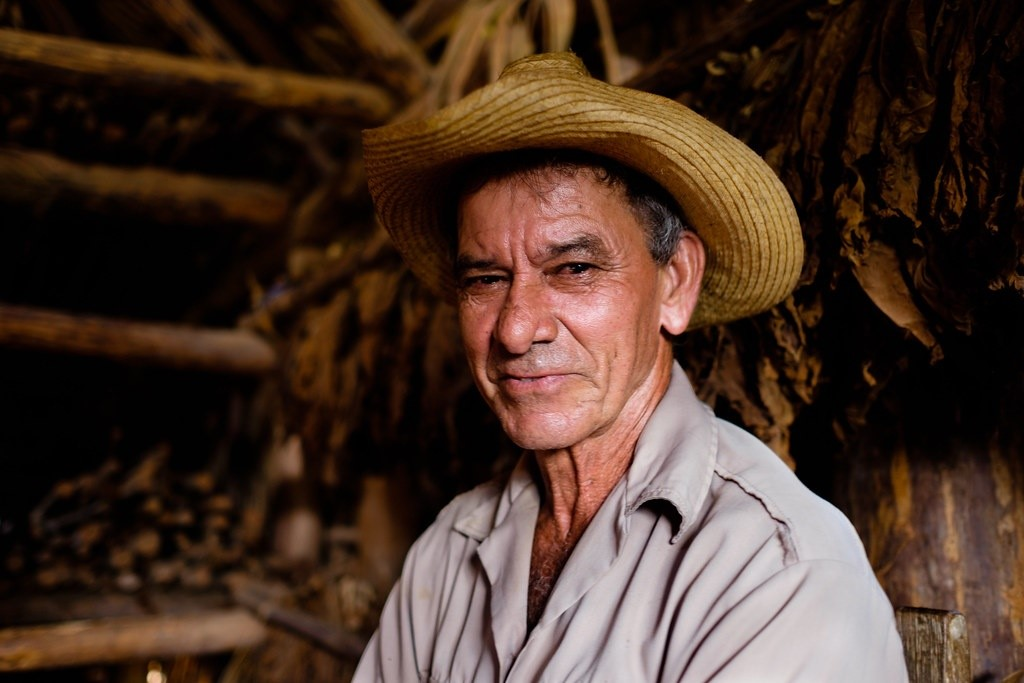face_no_mask: (441, 143, 686, 456)
